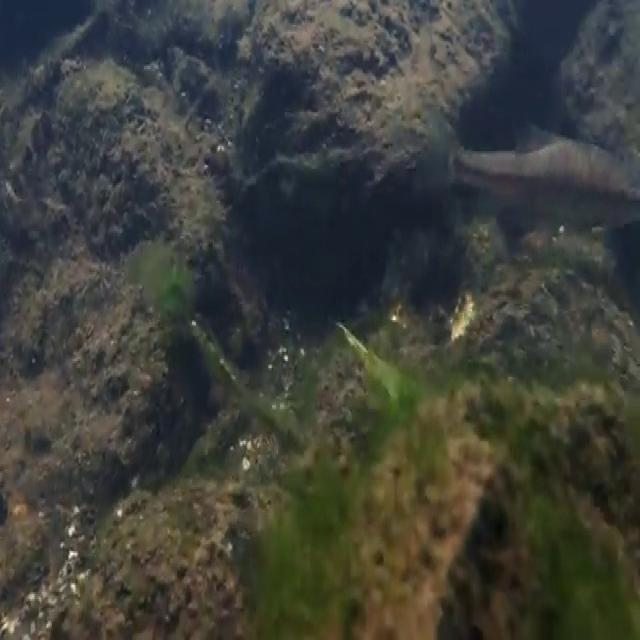Cakil Baligi: (411, 84, 640, 245)
